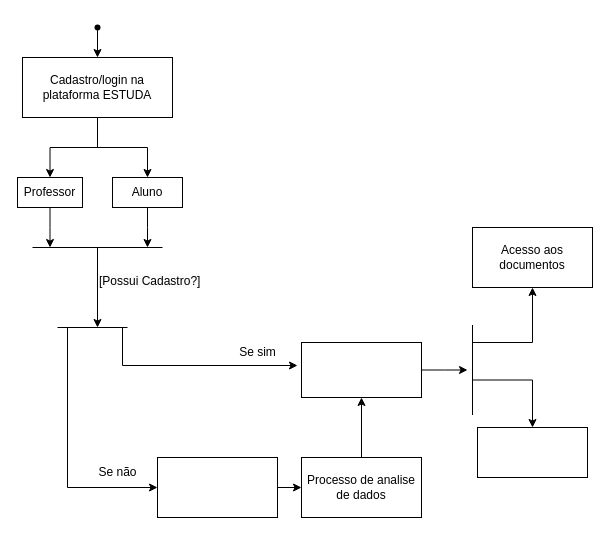
Image size: 610x535. Some labels were removed from this diagram. Here are the shapes that lost their labels. From the top down, the centre of each, then its label:
the point at 361,370: Fazer login
the point at 532,452: Comentar e pedir ajuda
the point at 217,487: Fazer cadastro
